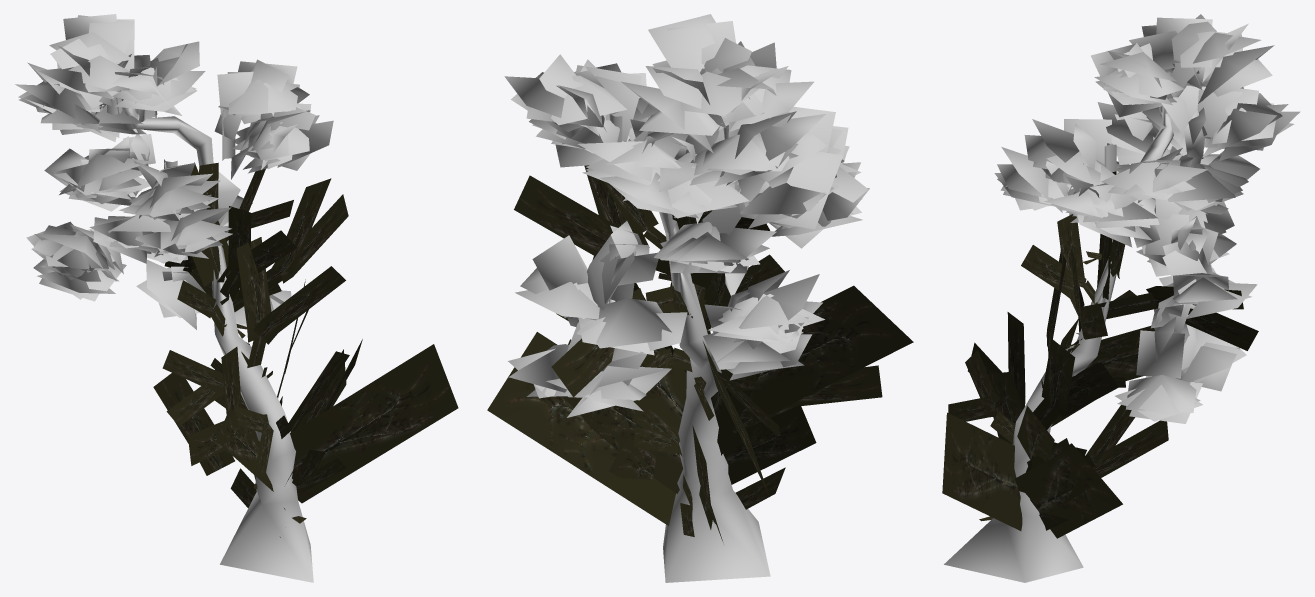
The model's file is Tree9Lod1.FBX.
3 renders of one model, left to right at view 1: azimuth 30°, elevation 25°; view 2: azimuth 150°, elevation 25°; view 3: azimuth 270°, elevation 25°, orthographic. The views are drawn at different scales.
Parts seen in each view (by area): view 1: Tree9Lod1; view 2: Tree9Lod1; view 3: Tree9Lod1.
Part boxes in pixels (x1,y1,x2,y2): Tree9Lod1: [15, 14, 458, 582]; Tree9Lod1: [487, 14, 913, 582]; Tree9Lod1: [942, 14, 1300, 582].
Size of the model in its own units: 267 by 397 by 262.
